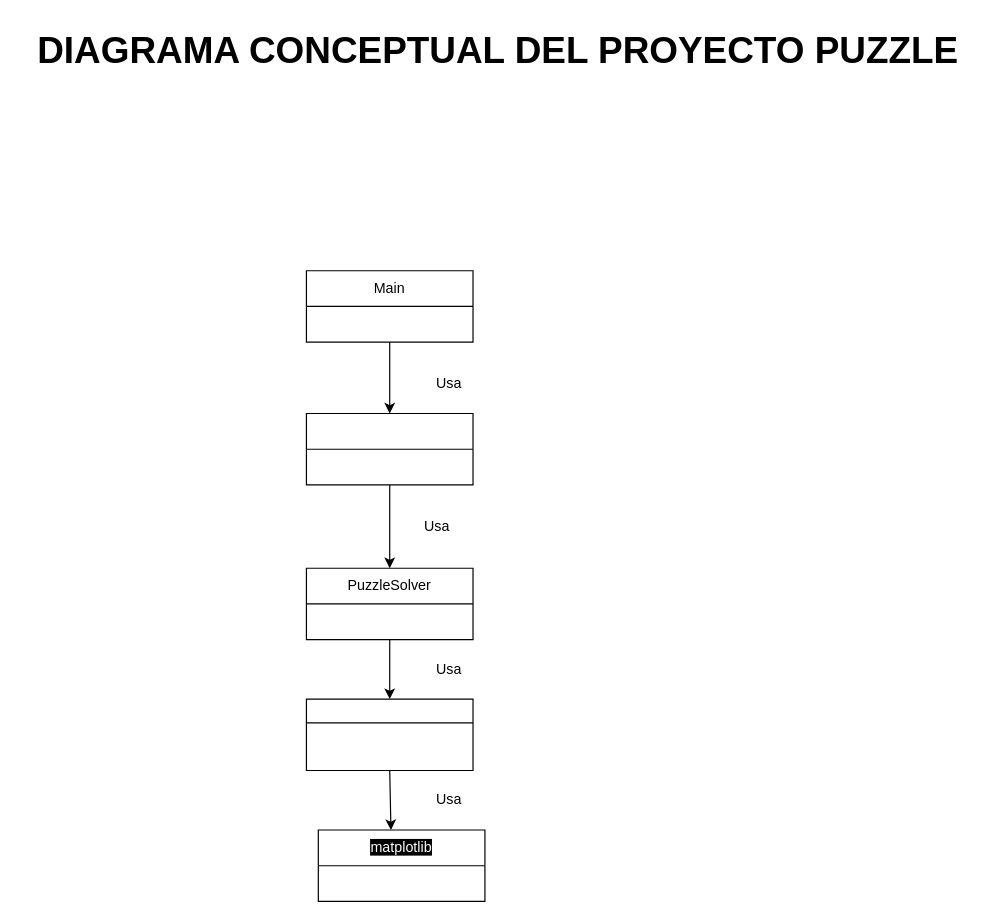
The diagram is 1004 pixels wide and 922 high, and some of its shapes have lost their labels. The centre of each missing label's shape, as x and y in pixels:
Dibujante: the point at 389,734
Puzzle: the point at 389,448
